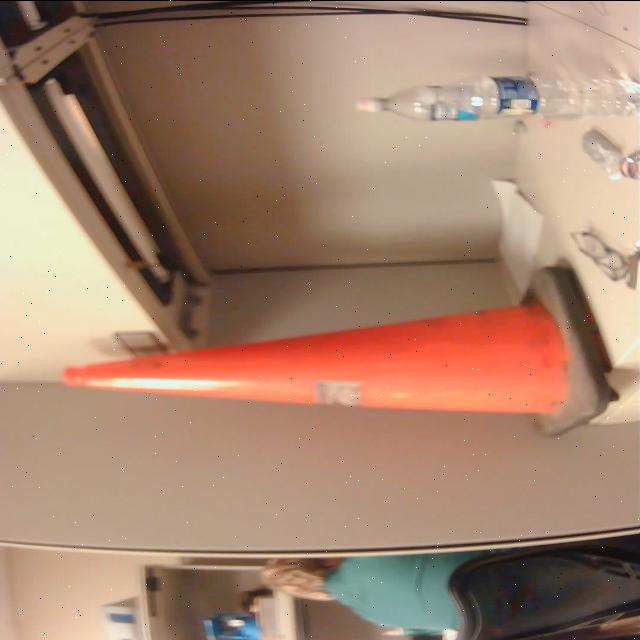traffic cone: (59, 261, 625, 441)
